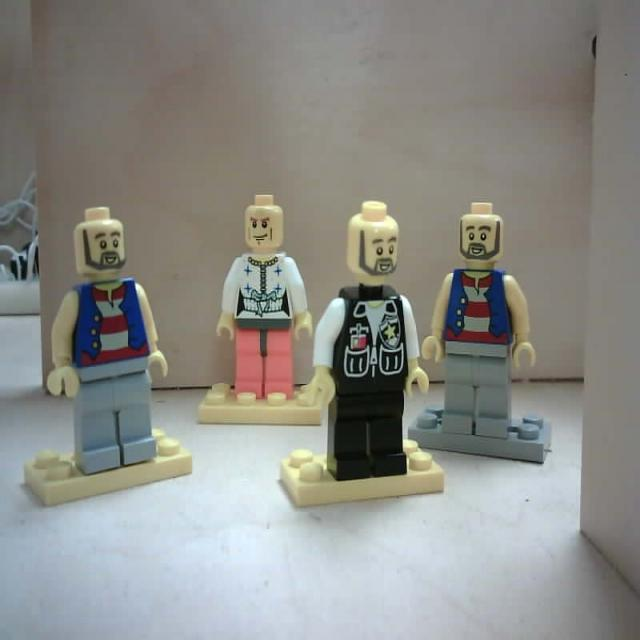Lego-People: (23, 204, 192, 508), (282, 200, 444, 512), (409, 204, 559, 466), (198, 196, 328, 430)
